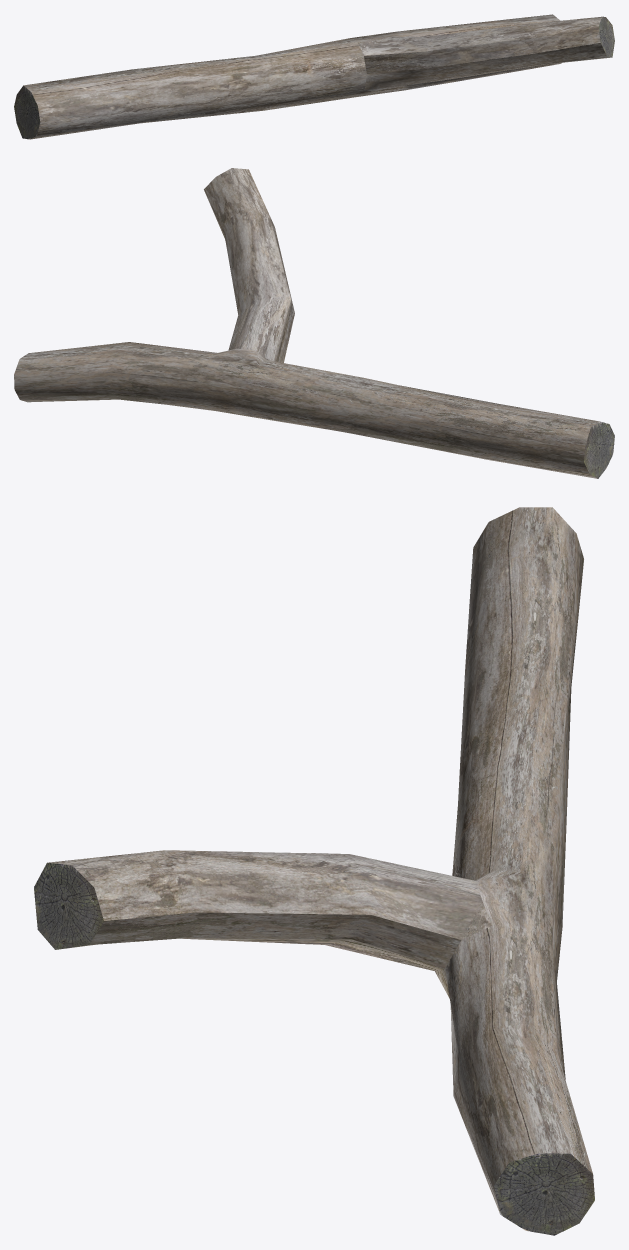
Rendered from TroncoRio02.FBX.
The picture shows the model from 3 angles, top to bottom: view 1: azimuth 30°, elevation 25°; view 2: azimuth 150°, elevation 25°; view 3: azimuth 270°, elevation 25°; orthographic projection. The views are drawn at different scales.
Parts seen in each view (by area): view 1: Cylinder002; view 2: Cylinder002; view 3: Cylinder002.
Boxes of the visible parts, bbox=[...] form: Cylinder002: bbox=[14, 14, 614, 139]; Cylinder002: bbox=[14, 168, 614, 478]; Cylinder002: bbox=[34, 507, 594, 1235].
Size of the model in its own units: 322 by 85.73 by 145.
